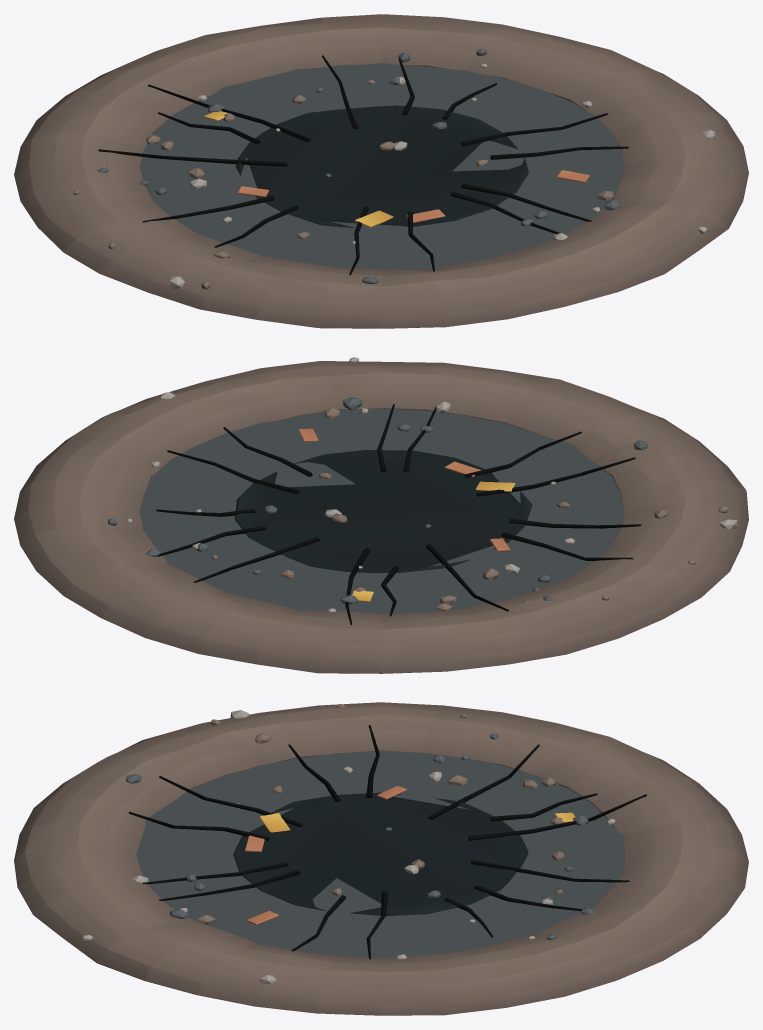
Rendered from war_crater.glb.
3 views of the same model, one above another, from view 1: azimuth 30°, elevation 25°; view 2: azimuth 150°, elevation 25°; view 3: azimuth 270°, elevation 25° (orthographic).
Parts seen in each view (by area): view 1: war_crater; view 2: war_crater; view 3: war_crater.
Boxes of the visible parts, x1,y1,x2,y2 form: war_crater: (14,14,748,328); war_crater: (14,357,748,673); war_crater: (14,702,748,1015).
Bounding box in the file's own units: 21.15 × 0.6805 × 21.1.
Materials: 1 (1 with a texture image).
